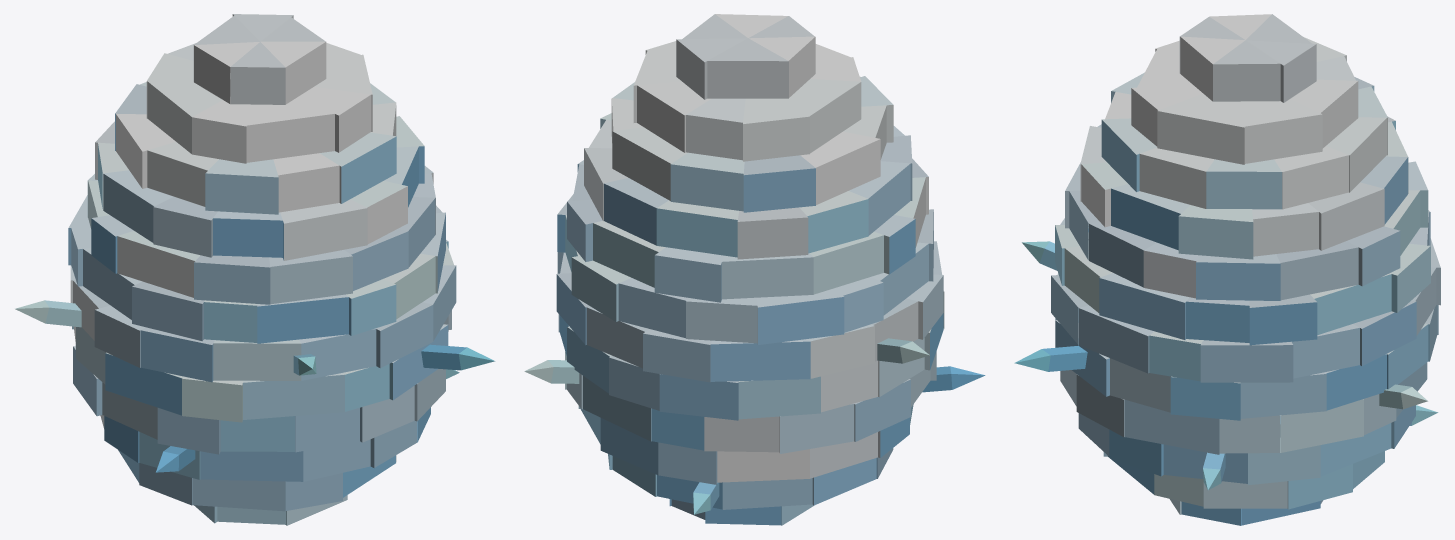
The model's file is frozen_egg.glb.
3 views of the same model, side by side, from view 1: azimuth 30°, elevation 25°; view 2: azimuth 150°, elevation 25°; view 3: azimuth 270°, elevation 25° (orthographic).
Visible parts, largest first — view 1: frozen_egg; view 2: frozen_egg; view 3: frozen_egg.
Part boxes in pixels (left/top/right/bottom): frozen_egg: left=15, top=14, right=495, bottom=525; frozen_egg: left=524, top=14, right=985, bottom=525; frozen_egg: left=1014, top=14, right=1440, bottom=525.
Bounding box in the file's own units: 1.01 × 1.1 × 0.949.
